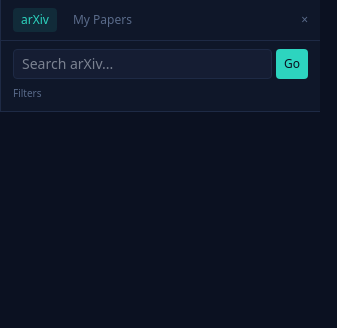
Test: SearchPanel › progress bar during add › updates in_topics tags after adding
The width and height of the screenshot is (337, 328).
In the field with placeholder "Search arXiv...": point(142, 64) [13,49,272,79], type "test"
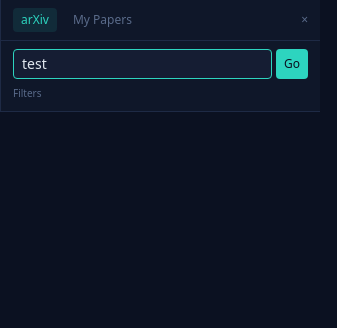
Click the button "Go": point(292, 64) [276,49,308,79]
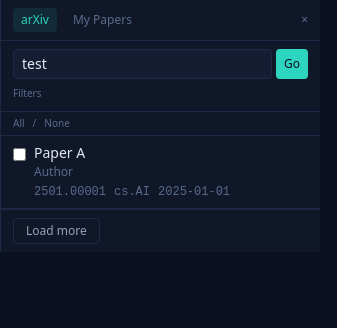
expect the text "my-topic" is not shown: met
expect the text "Paper A" is shown: met, box [34,143,85,162]
Click the checkbox: point(20, 154) [13,148,26,161]
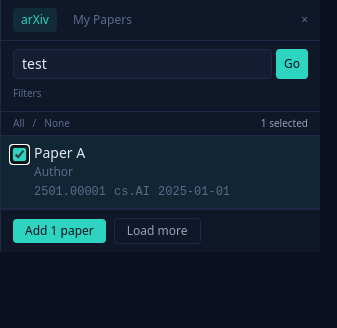
Click the button "Add 1 paper": point(59, 230) [13,218,106,242]
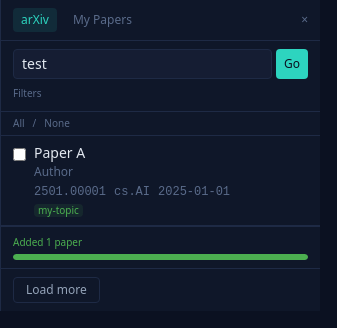
expect the text "my-topic" is shown: met, box [34,204,83,217]
